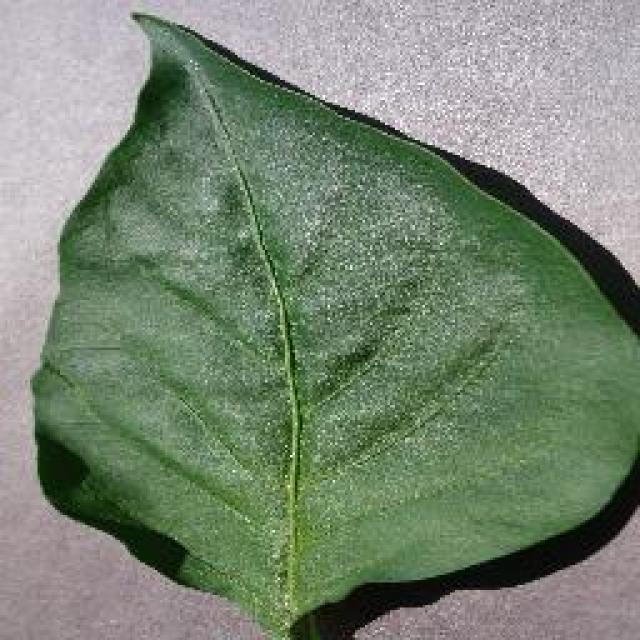Chilli_Healthy: (28, 8, 638, 638)
